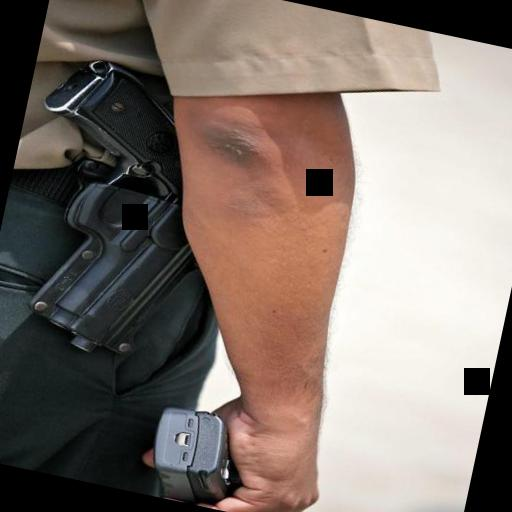Handgun: (0, 40, 243, 385)
